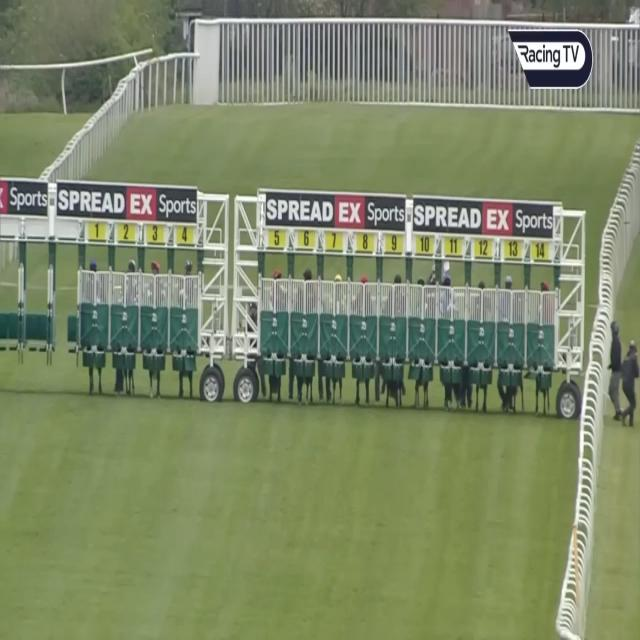horses-racing: (86, 255, 102, 278), (271, 265, 285, 287), (147, 259, 162, 276), (331, 270, 345, 288), (302, 264, 314, 284), (124, 258, 136, 276), (417, 273, 427, 294), (183, 260, 194, 278), (360, 268, 369, 286), (538, 281, 554, 291), (445, 272, 453, 290), (394, 271, 402, 287), (505, 276, 513, 292), (478, 277, 484, 289)
